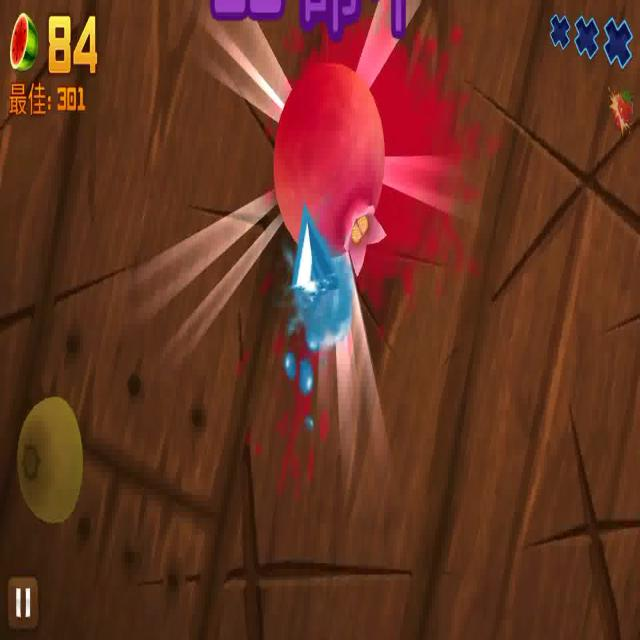fruit: (274, 63, 390, 267), (13, 392, 87, 527)
